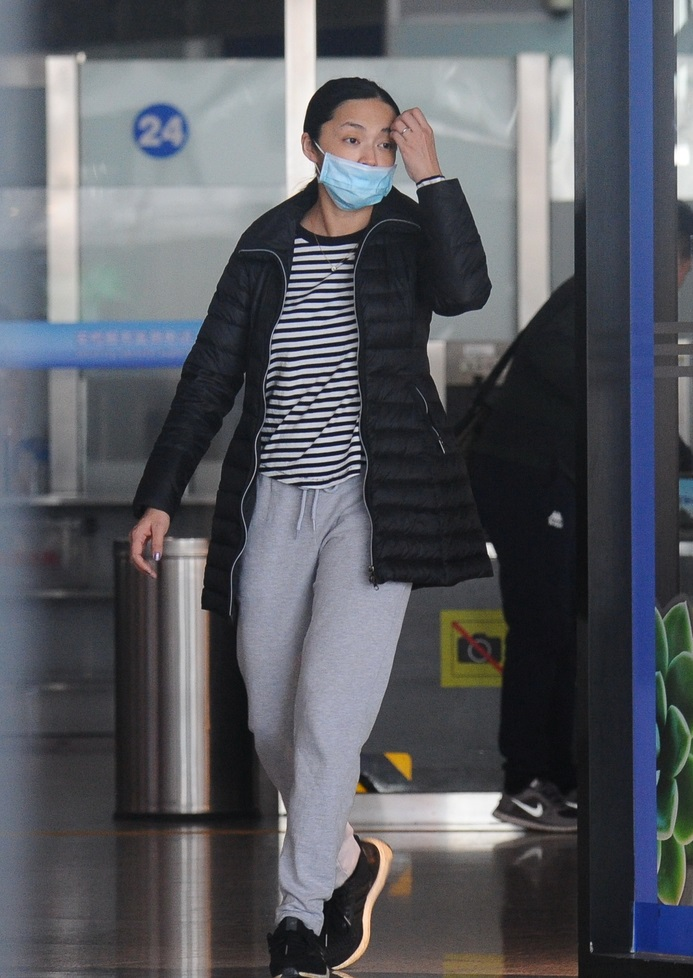face_mask: (320, 96, 399, 210)
